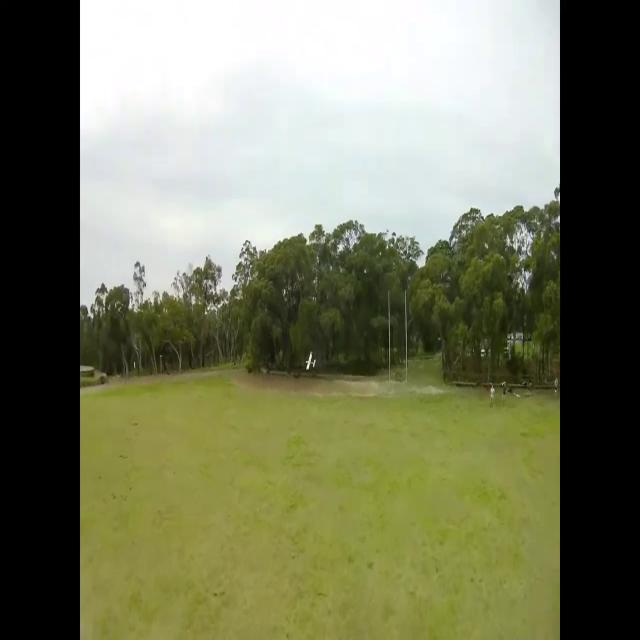iha: (308, 351, 312, 373)
